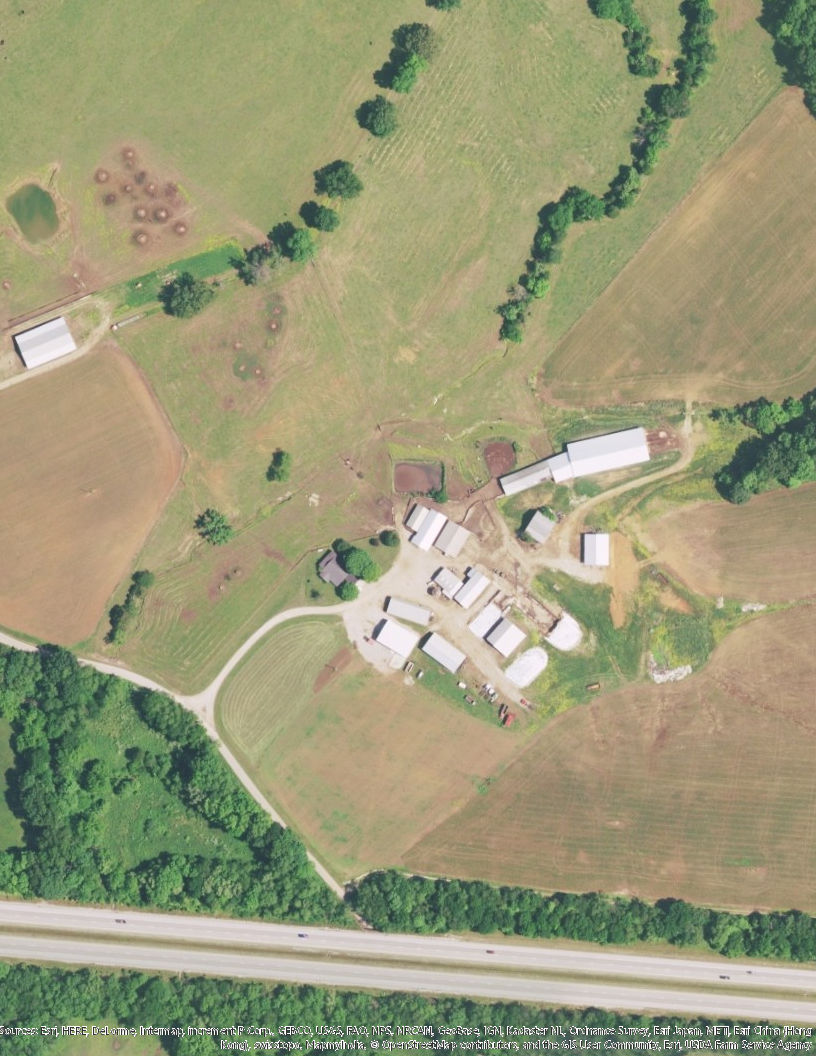cafo: (496, 426, 655, 494), (375, 594, 469, 676), (403, 499, 476, 556), (476, 609, 528, 658), (434, 565, 491, 606), (581, 526, 614, 570)
